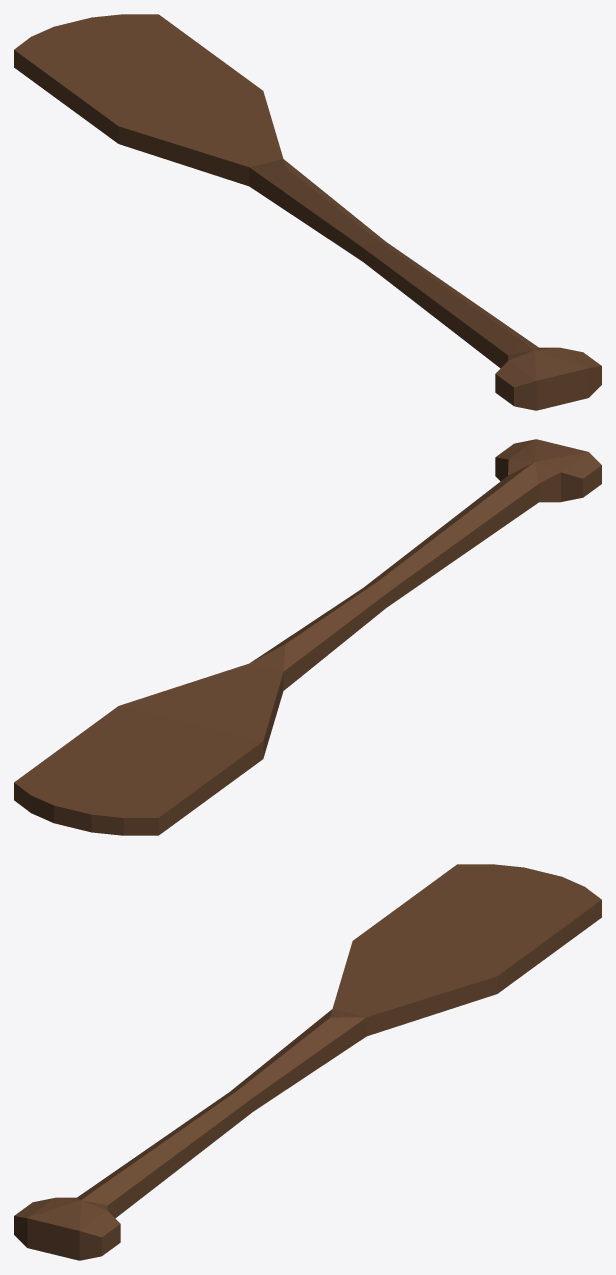
File: oar.glb
3 views of the same model, one above another, from view 1: azimuth 30°, elevation 25°; view 2: azimuth 150°, elevation 25°; view 3: azimuth 330°, elevation 25° (orthographic).
Visible parts, largest first — view 1: mff_ruins_oar; view 2: mff_ruins_oar; view 3: mff_ruins_oar.
Part boxes in pixels (left/top/right/bottom): mff_ruins_oar: left=14, top=14, right=601, bottom=410; mff_ruins_oar: left=14, top=439, right=601, bottom=835; mff_ruins_oar: left=14, top=864, right=601, bottom=1260.
Bounding box in the file's own units: 0.5275 × 0.1336 × 3.09.
Materials: 1 (1 with a texture image).
